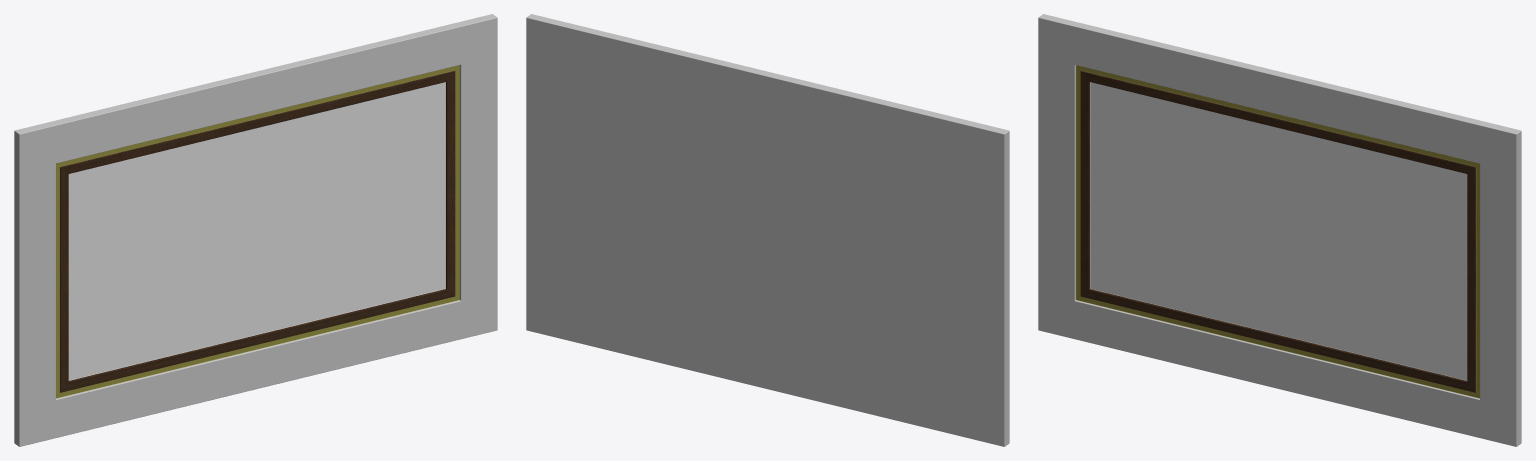
File: frame.fbx
The picture shows the model from 3 angles, left to right: view 1: azimuth 30°, elevation 25°; view 2: azimuth 150°, elevation 25°; view 3: azimuth 330°, elevation 25°; orthographic projection.
Visible parts, largest first — view 1: Painting with frame; view 2: Painting with frame; view 3: Painting with frame.
Boxes of the visible parts, left/top/right/bottom form: Painting with frame: left=14, top=14, right=497, bottom=446; Painting with frame: left=526, top=14, right=1009, bottom=446; Painting with frame: left=1038, top=14, right=1521, bottom=446.
Bounding box in the file's own units: 160 × 100 × 3.
